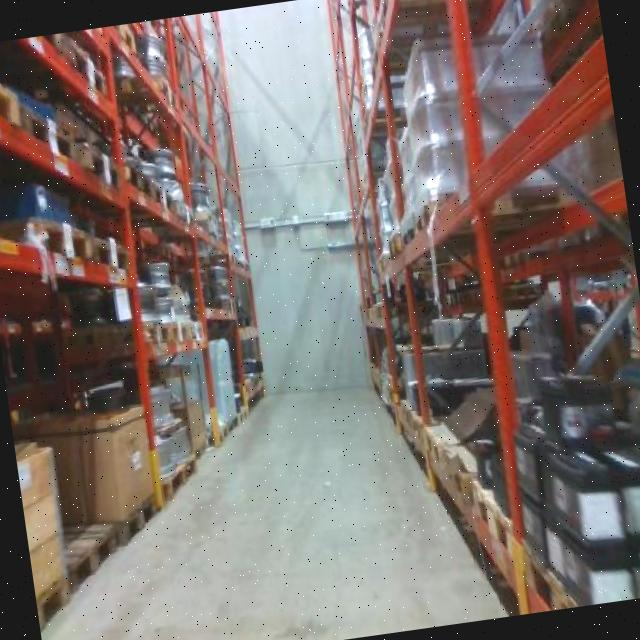pallet: (470, 469, 524, 585), (64, 517, 125, 605), (34, 213, 99, 266), (115, 481, 161, 552), (155, 452, 197, 509), (0, 78, 27, 138)
